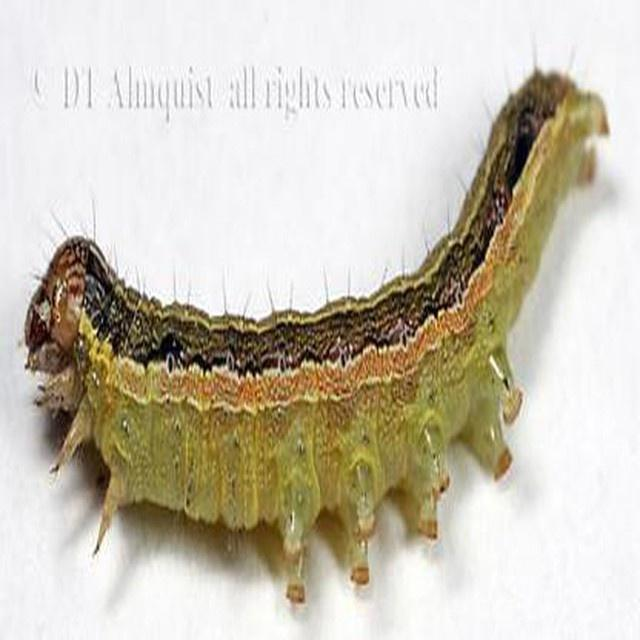worm: (21, 56, 611, 606)
